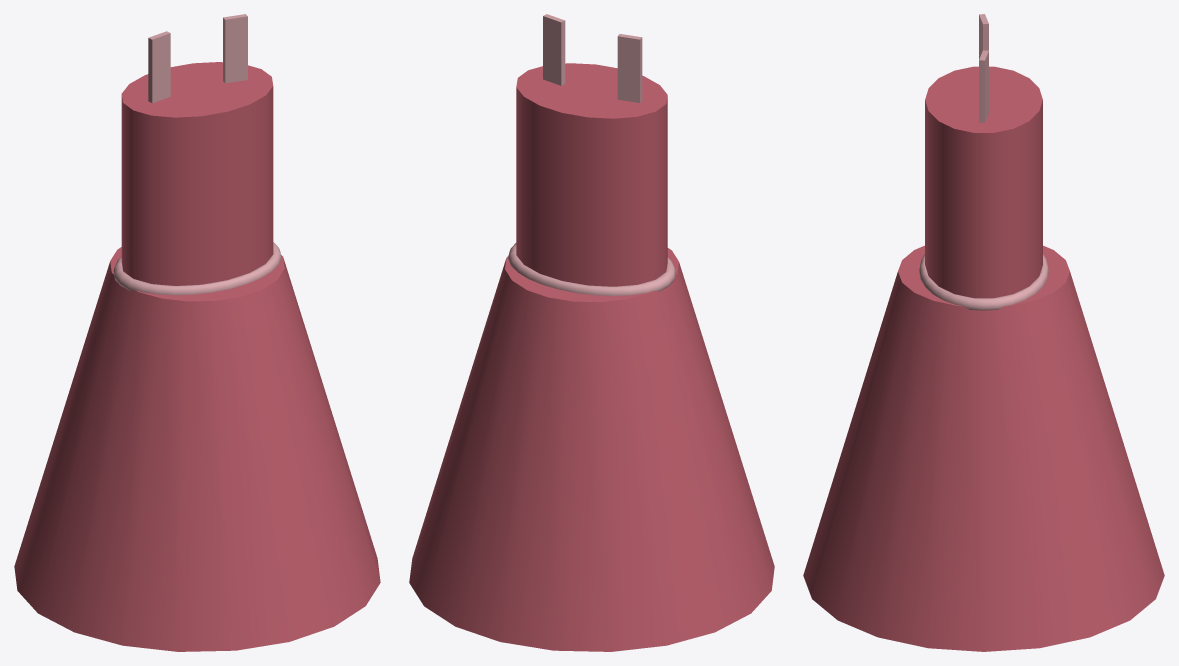
The model's file is VM-DAM-EXT166.glb.
3 views of the same model, side by side, from view 1: azimuth 30°, elevation 25°; view 2: azimuth 150°, elevation 25°; view 3: azimuth 270°, elevation 25° (orthographic).
Parts seen in each view (by area): view 1: Vestido de Tartán; view 2: Vestido de Tartán; view 3: Vestido de Tartán.
Boxes of the visible parts, x1,y1,x2,y2 form: Vestido de Tartán: (14, 14, 380, 651); Vestido de Tartán: (409, 14, 774, 651); Vestido de Tartán: (803, 14, 1164, 651).
Size of the model in its own units: 0.882 by 1.45 by 0.882.
